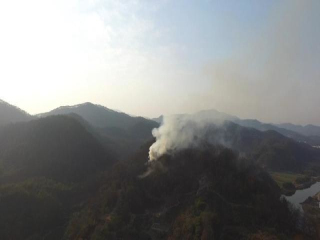smoke: (137, 109, 242, 181)
